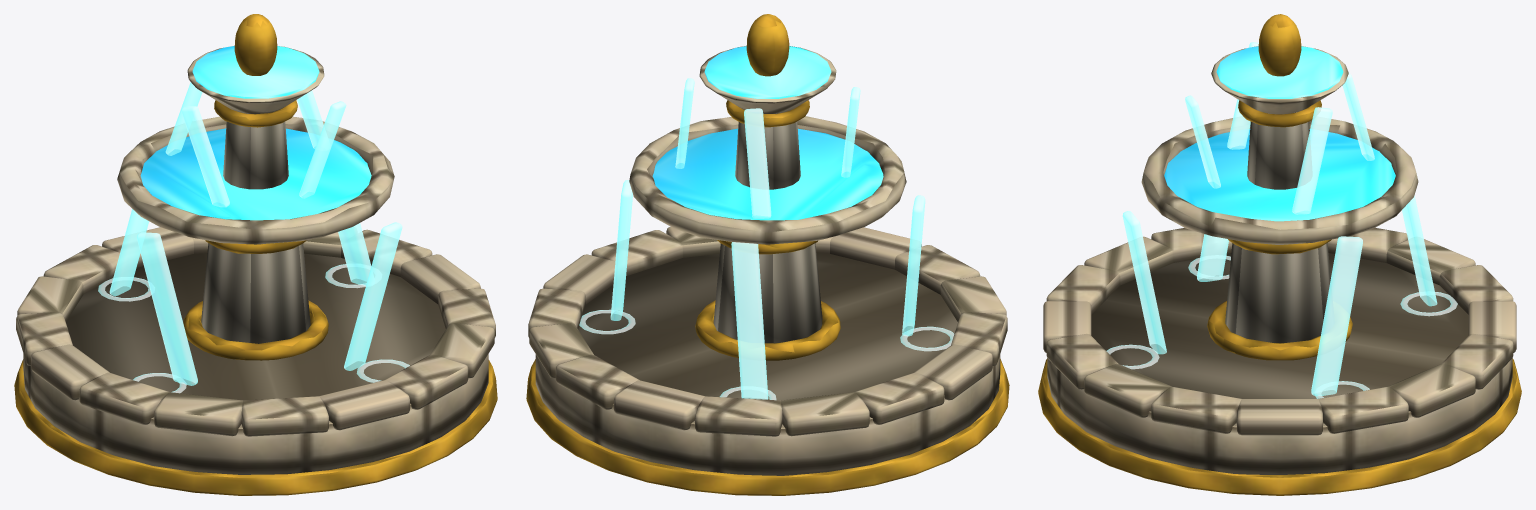
File: g_prop_fountain.glb
3 renders of one model, left to right at view 1: azimuth 30°, elevation 25°; view 2: azimuth 150°, elevation 25°; view 3: azimuth 270°, elevation 25°, orthographic.
Visible parts, largest first — view 1: FntBasinWall, FntGoldBaseRing, FntWaterMid, FntMidRim, FntPedestal1, FntWaterTop, FntPedestal2, StreamLow_2, FntGoldCollar1, FntRimStone_11, FntRimStone_10, StreamLow_3 (+23 smaller); view 2: FntBasinWall, FntWaterMid, FntGoldBaseRing, FntMidRim, FntPedestal1, FntWaterTop, StreamLow_1, FntRimStone_5, FntRimStone_6, FntRimStone_4, FntGoldCollar1, FntRimStone_7 (+23 smaller); view 3: FntBasinWall, FntGoldBaseRing, FntWaterMid, FntMidRim, FntPedestal1, FntWaterTop, StreamLow_0, FntPedestal2, FntRimStone_0, FntRimStone_1, FntRimStone_15, FntRimStone_2 (+23 smaller).
Part boxes in pixels (box(x1,y1,x2,y2)): FntBasinWall: box(23, 253, 488, 474); FntGoldBaseRing: box(14, 359, 497, 495); FntWaterMid: box(140, 128, 371, 220); FntMidRim: box(117, 116, 394, 244); FntPedestal1: box(201, 243, 310, 343); FntWaterTop: box(192, 46, 319, 98); FntPedestal2: box(223, 113, 288, 189); StreamLow_2: box(136, 232, 197, 385); FntGoldCollar1: box(183, 300, 328, 360); FntRimStone_11: box(241, 396, 328, 436); FntRimStone_10: box(154, 392, 242, 436); StreamLow_3: box(344, 222, 402, 370); FntBasinWall: box(535, 253, 1000, 475); FntWaterMid: box(652, 128, 883, 220); FntGoldBaseRing: box(526, 359, 1009, 495); FntMidRim: box(629, 116, 906, 244); FntPedestal1: box(713, 243, 822, 343); FntWaterTop: box(704, 46, 831, 98); StreamLow_1: box(731, 242, 768, 399); FntRimStone_5: box(695, 396, 782, 436); FntRimStone_6: box(781, 392, 869, 436); FntRimStone_4: box(614, 380, 704, 430); FntGoldCollar1: box(695, 300, 840, 360); FntRimStone_7: box(854, 372, 944, 424); FntBasinWall: box(1047, 253, 1512, 474); FntGoldBaseRing: box(1038, 358, 1521, 495); FntWaterMid: box(1164, 129, 1395, 221); FntMidRim: box(1141, 118, 1418, 244); FntPedestal1: box(1225, 243, 1330, 343); FntWaterTop: box(1216, 46, 1343, 98); StreamLow_0: box(1311, 236, 1362, 396); FntPedestal2: box(1247, 112, 1309, 189); FntRimStone_0: box(1237, 399, 1322, 435); FntRimStone_1: box(1318, 386, 1408, 433); FntRimStone_15: box(1151, 386, 1241, 433); FntRimStone_2: box(1388, 363, 1475, 417).
Bounding box in the file's own units: 1.91 × 1.65 × 1.91.
Materials: 5 (4 with a texture image).
